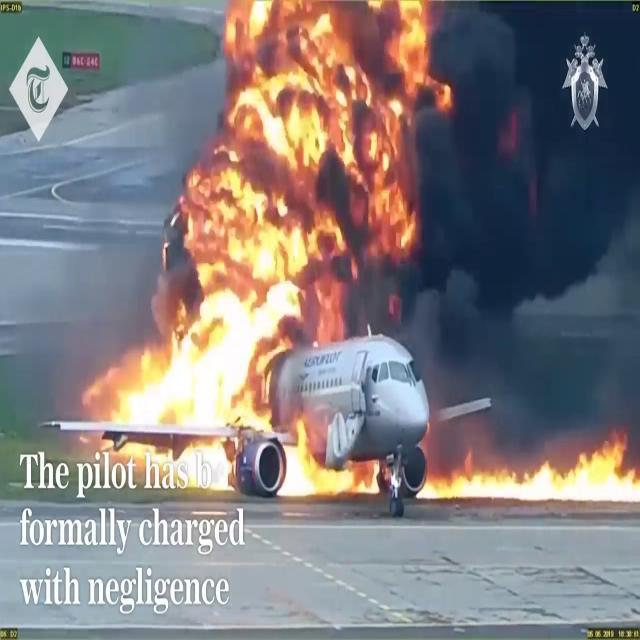Fire: (77, 2, 400, 520), (144, 2, 452, 284), (428, 428, 640, 508)
